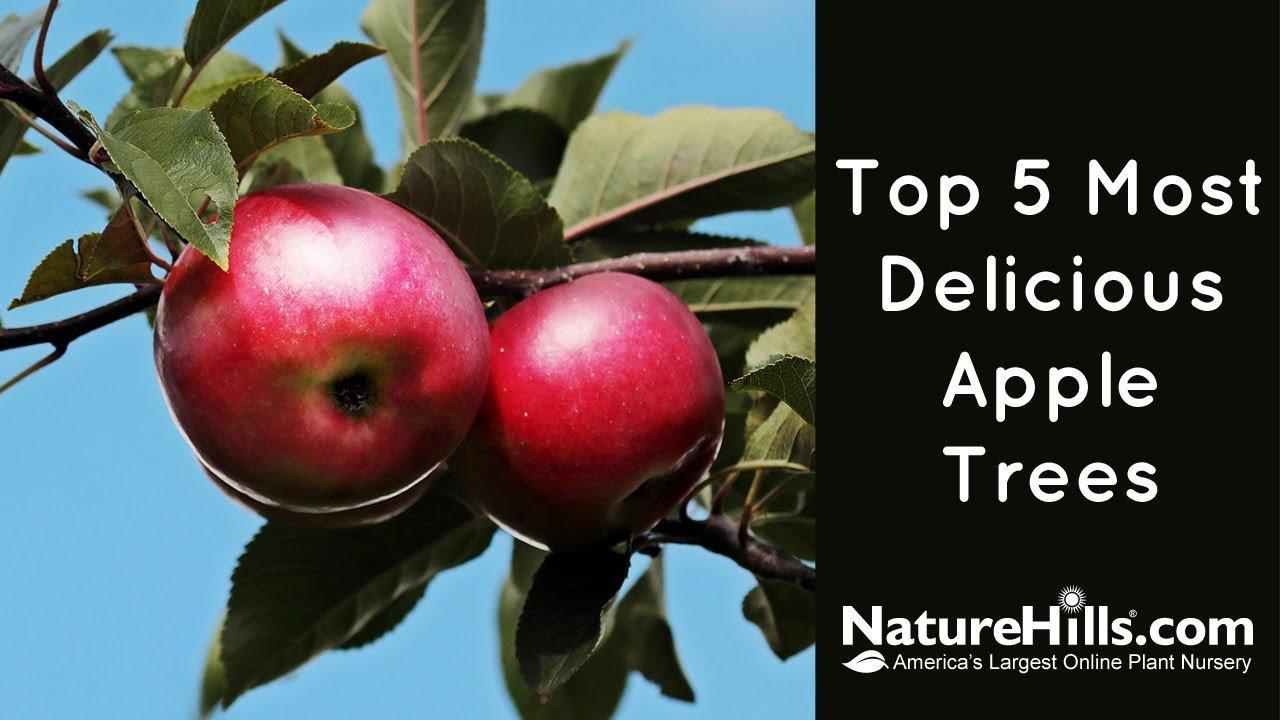apple: (146, 184, 503, 512), (468, 264, 721, 548)
